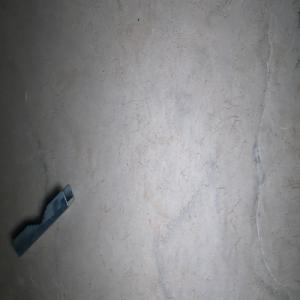ClampPart: (10, 182, 76, 259)
